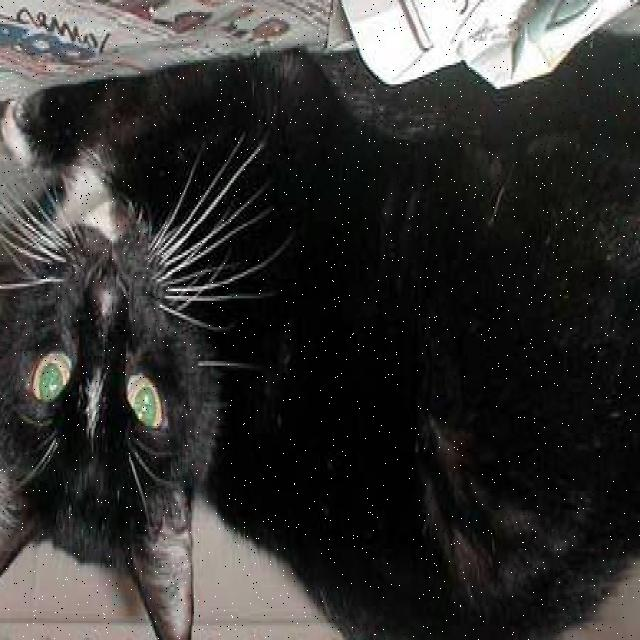Cat: (0, 171, 235, 624)
